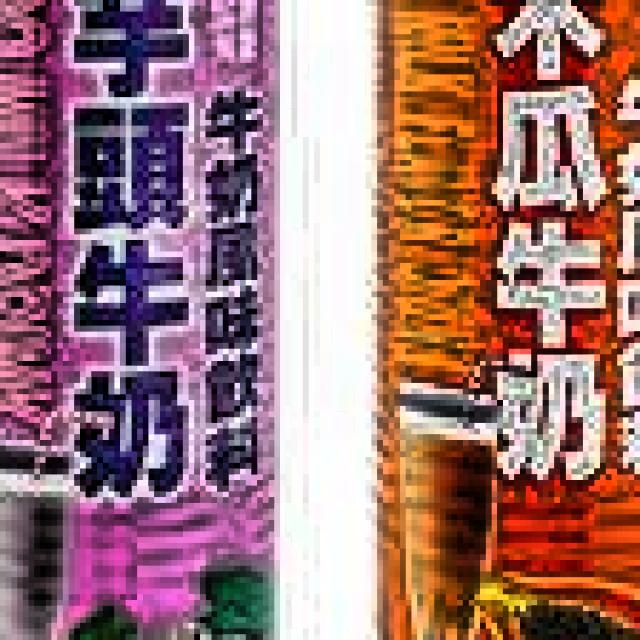metal: (0, 0, 297, 640), (360, 0, 640, 640)
